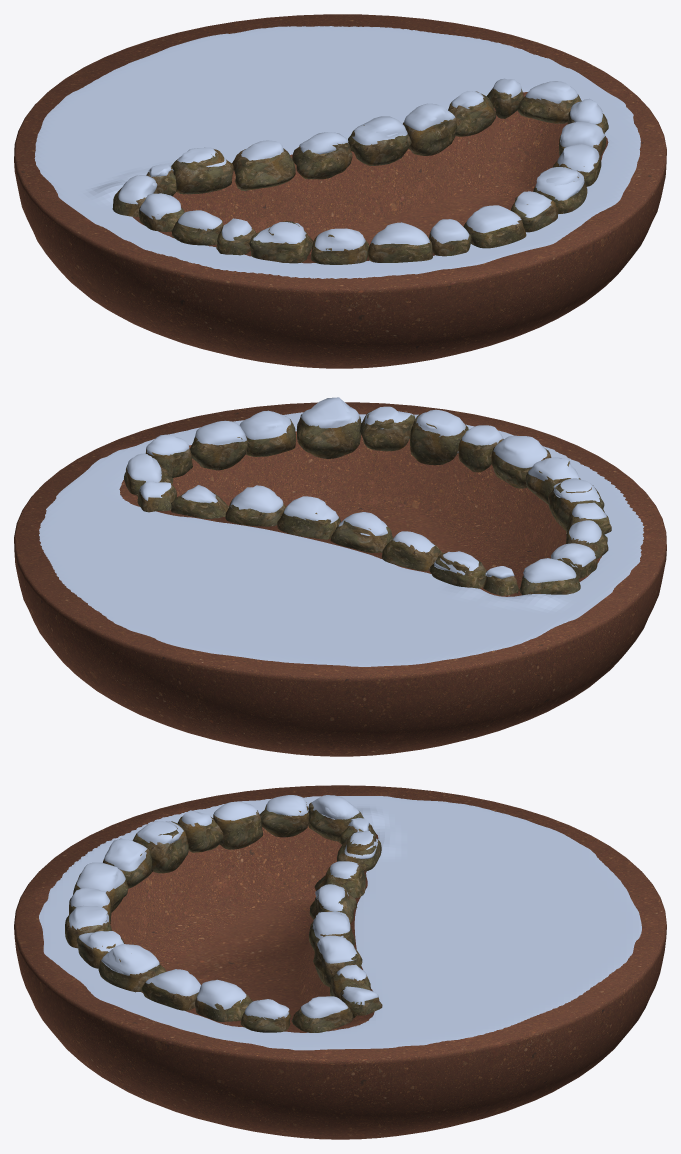
Rendered from land.glb.
3 views of the same model, one above another, from view 1: azimuth 30°, elevation 25°; view 2: azimuth 150°, elevation 25°; view 3: azimuth 270°, elevation 25° (orthographic).
Parts seen in each view (by area): view 1: ground, snow, snowRock, rock.002, rock.001; view 2: ground, snow, snowRock, rock.002, rock.001; view 3: ground, snow, snowRock, rock.002, rock.001.
Boxes of the visible parts, <box> form: ground: <box>14,14,666,368</box>; snow: <box>34,26,640,278</box>; snowRock: <box>118,78,605,251</box>; rock.002: <box>112,91,605,263</box>; rock.001: <box>138,87,608,264</box>; ground: <box>14,402,666,756</box>; snow: <box>39,412,644,666</box>; snowRock: <box>127,397,606,583</box>; rock.002: <box>124,414,608,595</box>; rock.001: <box>137,411,611,588</box>; ground: <box>14,785,666,1139</box>; snow: <box>39,796,641,1050</box>; snowRock: <box>69,795,378,1019</box>; rock.002: <box>65,802,376,1032</box>; rock.001: <box>69,802,382,1032</box>.
Size of the model in its own units: 2.05 by 0.6653 by 2.05.
3 materials, 2 textured.
